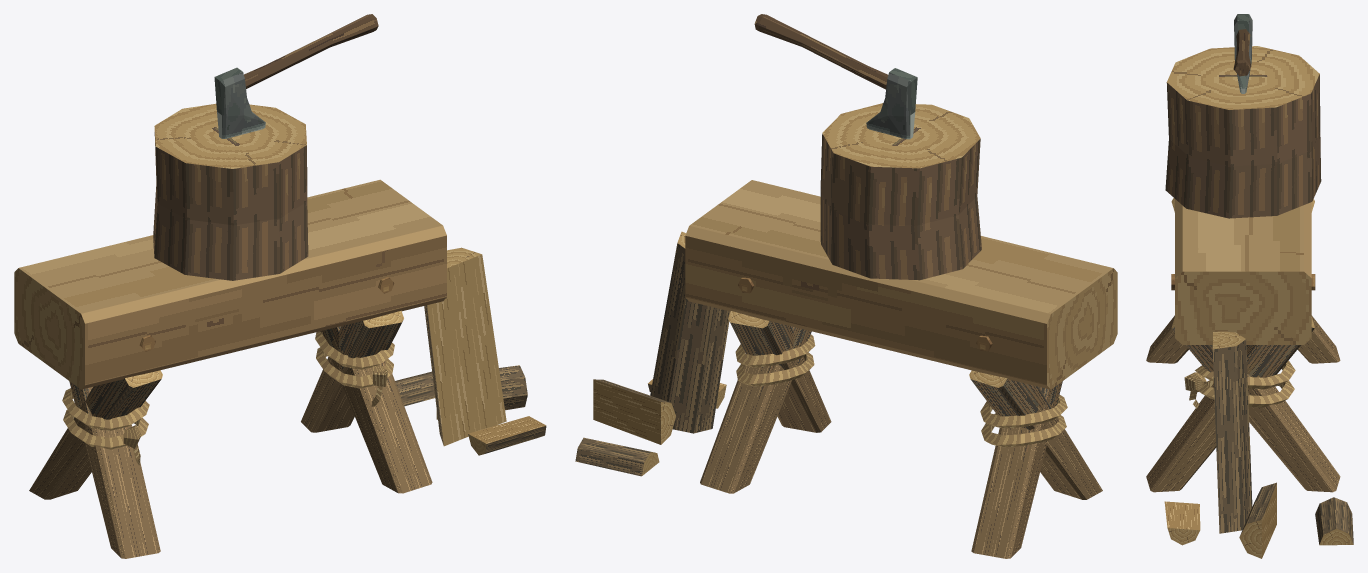
The model's file is wood_splitting_station.glb.
The picture shows the model from 3 angles, left to right: view 1: azimuth 30°, elevation 25°; view 2: azimuth 150°, elevation 25°; view 3: azimuth 270°, elevation 25°; orthographic projection. The views are drawn at different scales.
Parts seen in each view (by area): view 1: Hewn_bench_beam, Bark_chopping_block, Left_crossed_trestle_legs, Leaning_split_log, Right_crossed_trestle_legs, Left_rope_lashing_and_knot, Beveled_forged_axe_head, Right_rope_lashing_and_knot, Faceted_ash_axe_handle, Loose_firewood_piece, Lower_stacked_firewood, Upper_stacked_firewood; view 2: Hewn_bench_beam, Bark_chopping_block, Left_crossed_trestle_legs, Right_crossed_trestle_legs, Leaning_split_log, Lower_stacked_firewood, Left_rope_lashing_and_knot, Beveled_forged_axe_head, Faceted_ash_axe_handle, Right_rope_lashing_and_knot, Upper_stacked_firewood; view 3: Bark_chopping_block, Hewn_bench_beam, Right_crossed_trestle_legs, Leaning_split_log, Left_crossed_trestle_legs, Right_rope_lashing_and_knot, Lower_stacked_firewood, Upper_stacked_firewood, Loose_firewood_piece, Beveled_forged_axe_head, Faceted_ash_axe_handle.
Boxes of the visible parts, bbox=[...] form: Hewn_bench_beam: bbox=[14, 179, 446, 389]; Bark_chopping_block: bbox=[153, 103, 308, 280]; Left_crossed_trestle_legs: bbox=[29, 370, 162, 558]; Leaning_split_log: bbox=[424, 247, 506, 446]; Right_crossed_trestle_legs: bbox=[301, 310, 432, 493]; Left_rope_lashing_and_knot: bbox=[62, 388, 149, 465]; Beveled_forged_axe_head: bbox=[214, 67, 265, 138]; Right_rope_lashing_and_knot: bbox=[315, 331, 394, 406]; Faceted_ash_axe_handle: bbox=[244, 14, 378, 88]; Loose_firewood_piece: bbox=[468, 416, 546, 455]; Lower_stacked_firewood: bbox=[436, 365, 527, 419]; Upper_stacked_firewood: bbox=[395, 371, 435, 406]; Hewn_bench_beam: bbox=[685, 180, 1117, 389]; Bark_chopping_block: bbox=[820, 103, 981, 280]; Left_crossed_trestle_legs: bbox=[969, 370, 1102, 558]; Right_crossed_trestle_legs: bbox=[700, 311, 831, 493]; Leaning_split_log: bbox=[650, 231, 730, 433]; Lower_stacked_firewood: bbox=[593, 379, 675, 444]; Left_rope_lashing_and_knot: bbox=[980, 394, 1067, 447]; Beveled_forged_axe_head: bbox=[866, 68, 917, 139]; Faceted_ash_axe_handle: bbox=[754, 14, 888, 89]; Right_rope_lashing_and_knot: bbox=[735, 334, 815, 386]; Upper_stacked_firewood: bbox=[575, 437, 659, 476]; Bark_chopping_block: bbox=[1165, 46, 1321, 218]; Hewn_bench_beam: bbox=[1175, 199, 1311, 344]; Right_crossed_trestle_legs: bbox=[1146, 317, 1340, 492]; Leaning_split_log: bbox=[1212, 331, 1252, 533]; Left_crossed_trestle_legs: bbox=[1146, 198, 1340, 363]; Right_rope_lashing_and_knot: bbox=[1184, 360, 1295, 408]; Lower_stacked_firewood: bbox=[1239, 482, 1276, 558]; Upper_stacked_firewood: bbox=[1315, 497, 1353, 545]; Loose_firewood_piece: bbox=[1164, 501, 1200, 545]; Beveled_forged_axe_head: bbox=[1234, 14, 1252, 93]; Faceted_ash_axe_handle: bbox=[1233, 29, 1251, 76].
Size of the model in its own units: 1.99 by 1.73 by 0.7684.
Materials: 1 (1 with a texture image).
